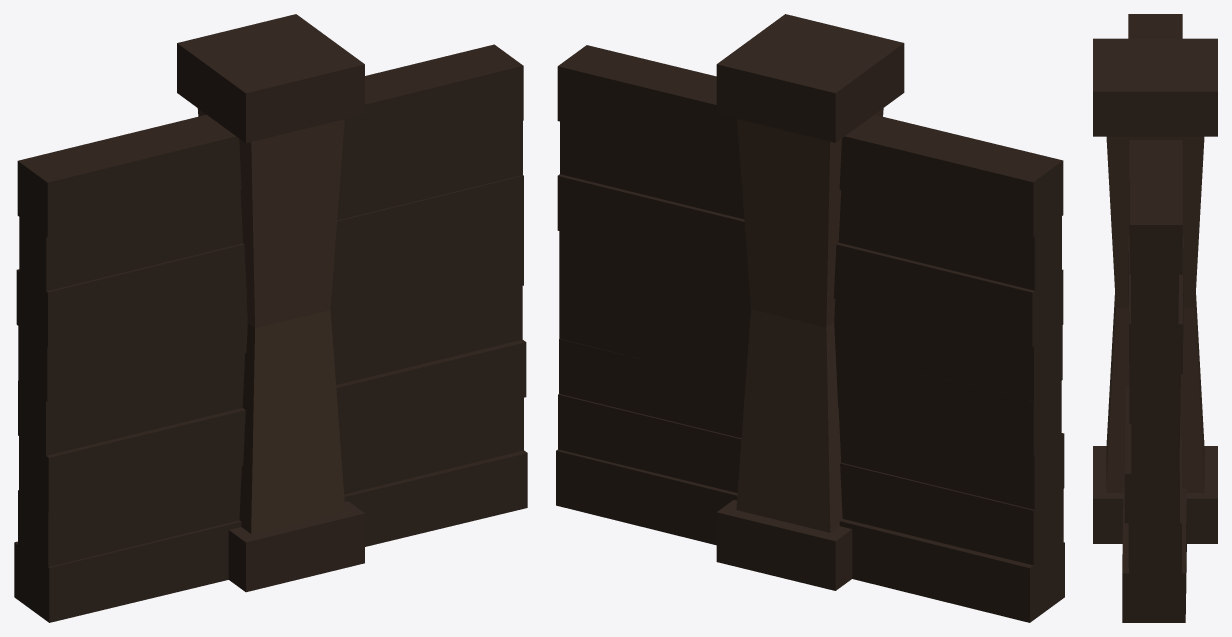
File: Wall_5_Dark_Brown.fbx
The picture shows the model from 3 angles, left to right: view 1: azimuth 30°, elevation 25°; view 2: azimuth 150°, elevation 25°; view 3: azimuth 270°, elevation 25°; orthographic projection. The views are drawn at different scales.
Parts seen in each view (by area): view 1: Wall_5_Dark_Brown; view 2: Wall_5_Dark_Brown; view 3: Wall_5_Dark_Brown.
Boxes of the visible parts, left/top/right/bottom form: Wall_5_Dark_Brown: left=14, top=14, right=527, bottom=622; Wall_5_Dark_Brown: left=556, top=14, right=1064, bottom=622; Wall_5_Dark_Brown: left=1093, top=14, right=1217, bottom=622.
Size of the model in its own units: 200 by 200 by 50.
